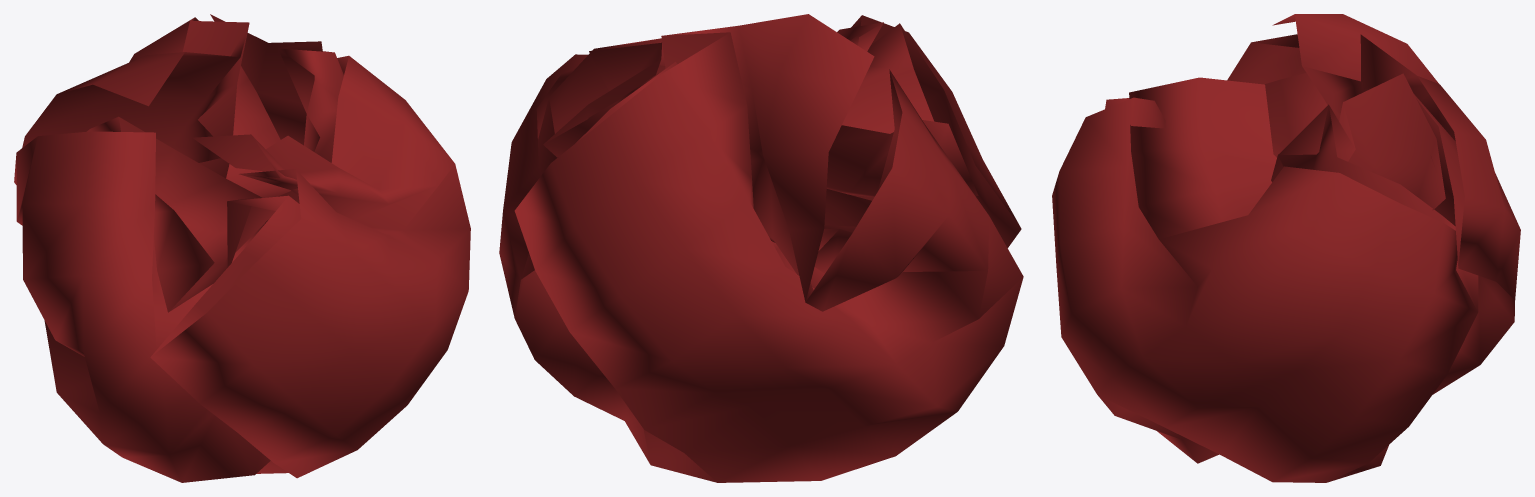
The picture shows the model from 3 angles, left to right: view 1: azimuth 30°, elevation 25°; view 2: azimuth 150°, elevation 25°; view 3: azimuth 270°, elevation 25°; orthographic projection. The views are drawn at different scales.
Visible parts, largest first — view 1: alt3.002; view 2: alt3.002; view 3: alt3.002.
Part boxes in pixels (bbox=[...]): alt3.002: bbox=[14, 14, 470, 482]; alt3.002: bbox=[499, 14, 1023, 482]; alt3.002: bbox=[1052, 14, 1520, 482].
Bounding box in the file's own units: 0.5 × 0.4928 × 0.4895.
